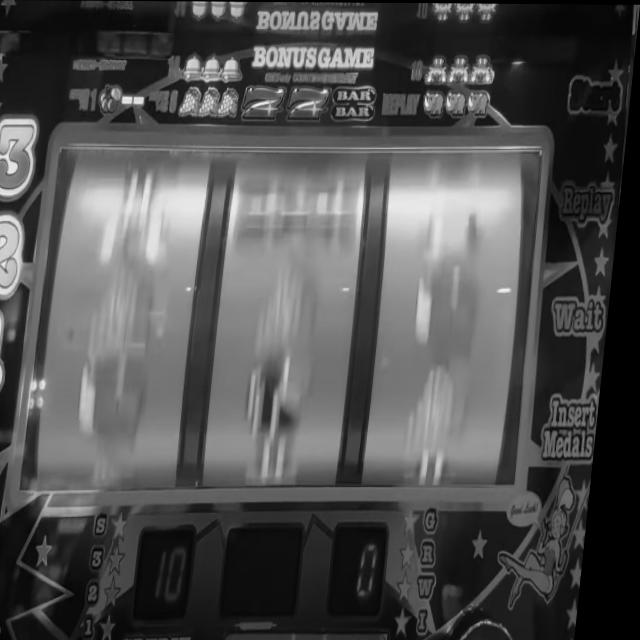bar: (235, 162, 370, 253), (329, 80, 381, 121)
bell: (426, 170, 491, 264), (182, 53, 205, 83), (222, 54, 245, 84), (202, 56, 222, 82), (473, 3, 497, 22), (453, 3, 476, 22), (188, 1, 210, 19), (429, 3, 452, 20), (229, 1, 246, 21), (208, 1, 226, 18)
cherry: (252, 356, 319, 435), (98, 82, 125, 116)
clown: (100, 162, 180, 260), (470, 54, 495, 88), (447, 56, 472, 87), (426, 55, 449, 85)
display: (30, 137, 555, 488)
elephant: (81, 350, 157, 448), (449, 89, 471, 117), (424, 90, 446, 116), (470, 90, 492, 116)
grape: (410, 357, 484, 455), (94, 254, 165, 355), (259, 262, 327, 359), (180, 85, 202, 115), (199, 86, 221, 116), (219, 86, 239, 116)
z: (244, 86, 288, 121), (291, 85, 330, 123)
